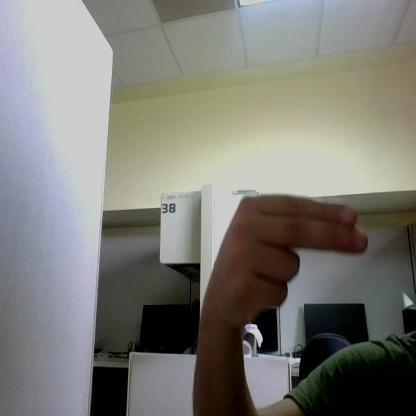H: (224, 196, 368, 328)
